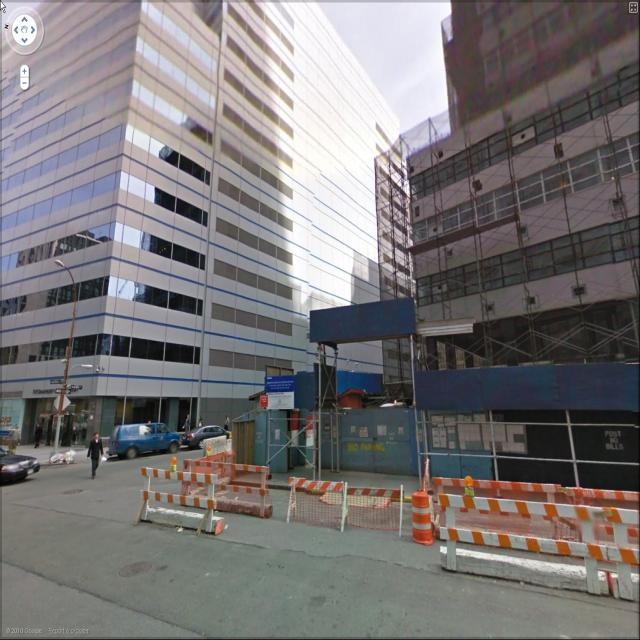b_1: (2, 3, 375, 401), (412, 4, 640, 477), (362, 123, 433, 385)
